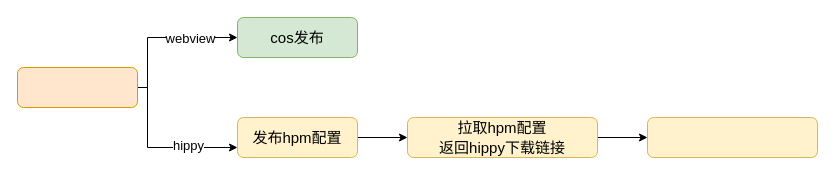
This 835x175 diagram has some shape labels left out. The shapes that lost their labels are listed below. From the top down, each one's box as (x1, y1, x2, y2) in pixels, then its label:
(16, 66, 138, 108): 构建系统发布
(646, 116, 818, 158): 客户端下载、检验、 运行hippy
